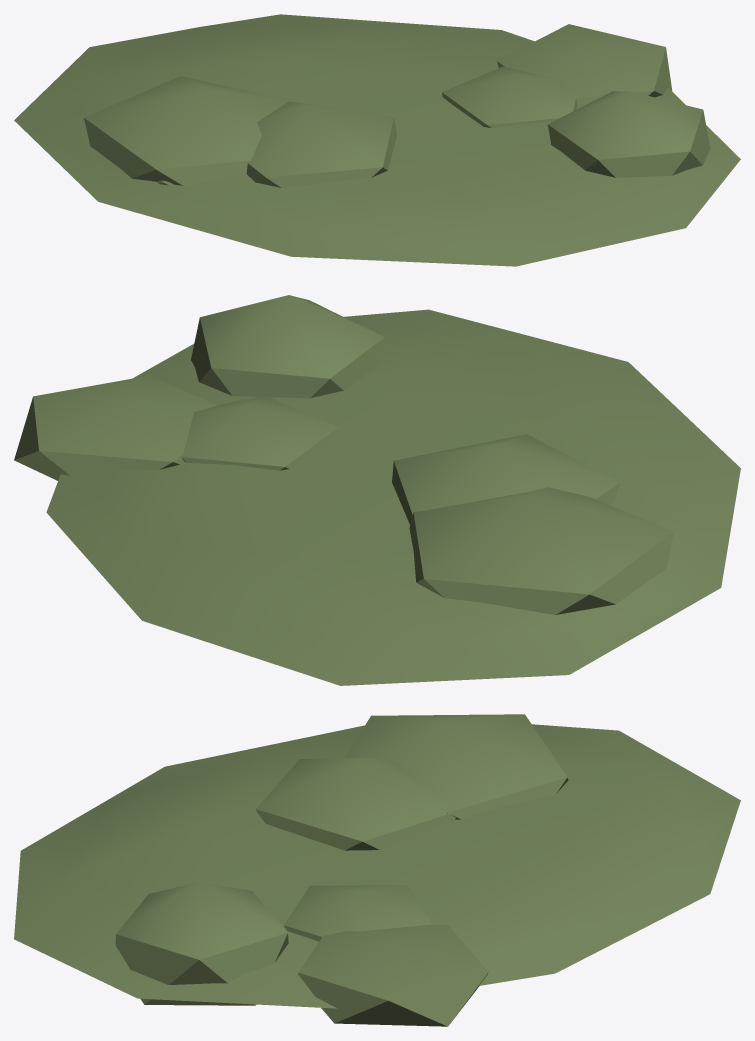
The model's file is moss_bank_b.glb.
The picture shows the model from 3 angles, top to bottom: view 1: azimuth 30°, elevation 25°; view 2: azimuth 150°, elevation 25°; view 3: azimuth 270°, elevation 25°; orthographic projection. The views are drawn at different scales.
Parts seen in each view (by area): view 1: moss; view 2: moss; view 3: moss.
Part boxes in pixels (x1,y1,x2,y2): moss: [14, 14, 740, 266]; moss: [14, 295, 740, 685]; moss: [14, 714, 740, 1026].
Size of the model in its own units: 0.9648 by 0.1365 by 0.9873.
